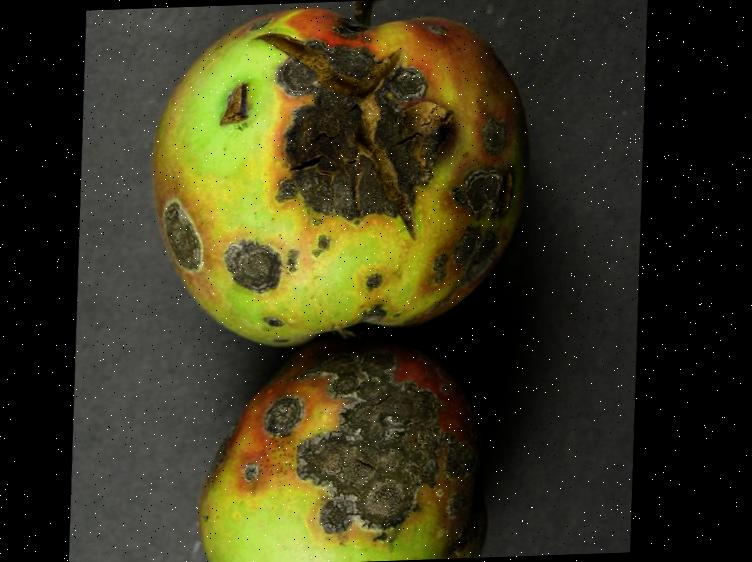SCAB: (139, 0, 588, 322), (165, 354, 526, 562)
